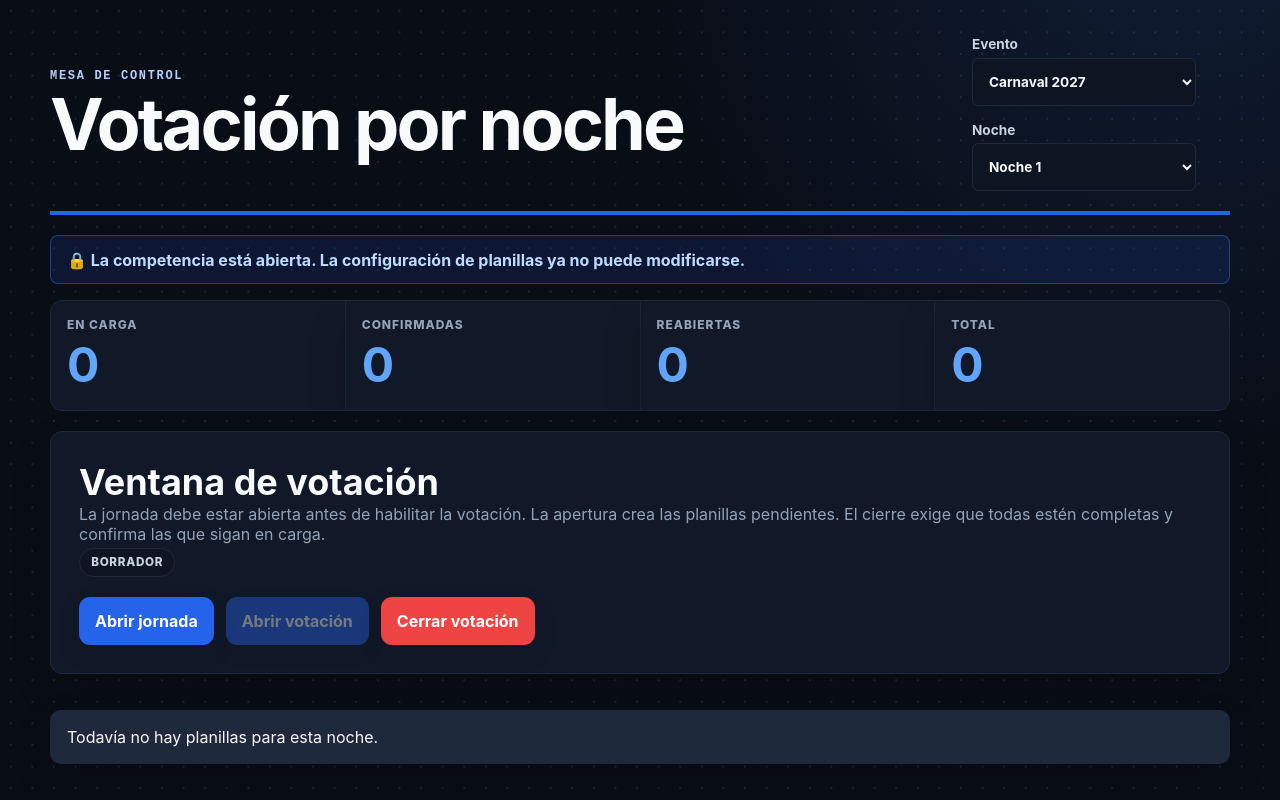
AdminVotingPage NIGHT_SCHEDULE_EMPTY › abre la jornada DRAFT desde la mesa de control
Expected: the text "Borrador" is shown, [79,548,175,577]
Expected: the button "Abrir votación" is disabled, [226,597,369,645]
Click the button "Abrir jornada" at [146, 621], box [79,597,214,645]
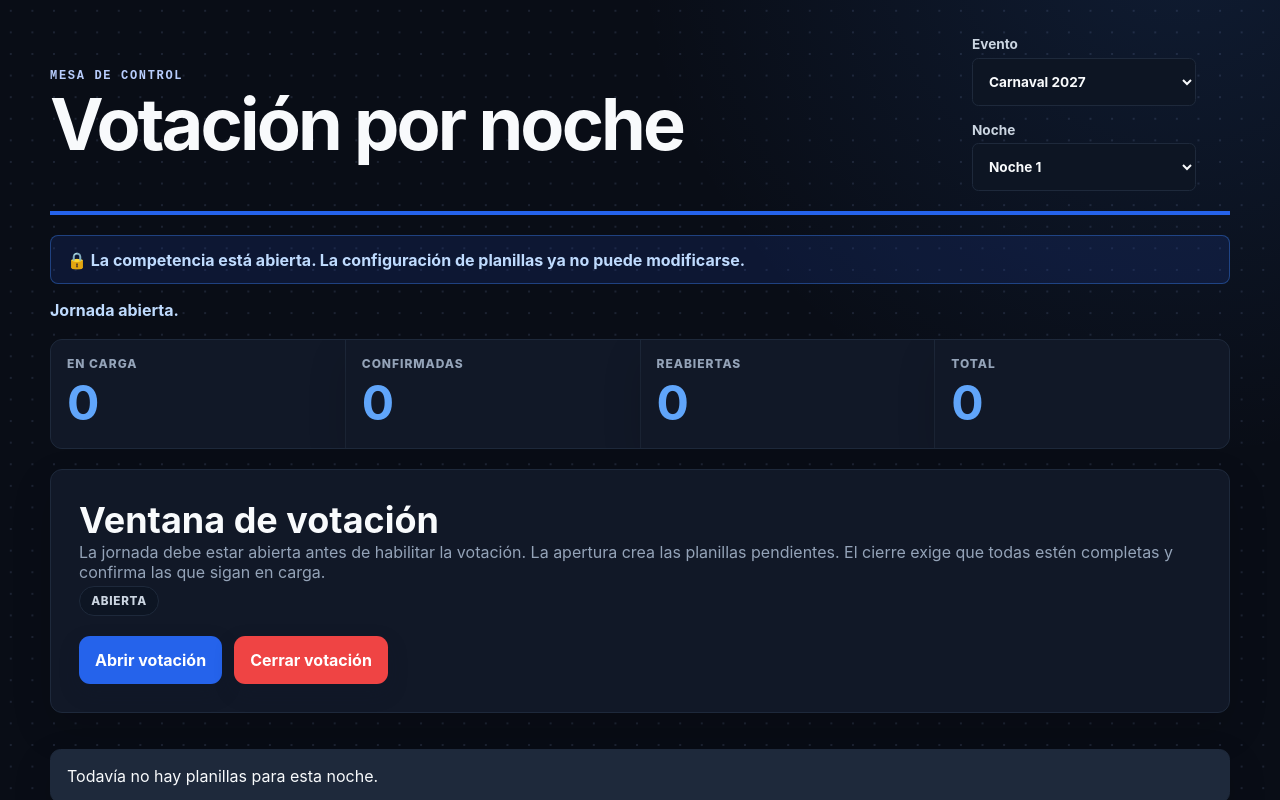
Now the text "Jornada abierta." is shown, box [50,300,179,320]
Now the button "Abrir jornada" is gone
Now the text "Abierta" is shown, box [79,586,159,616]
